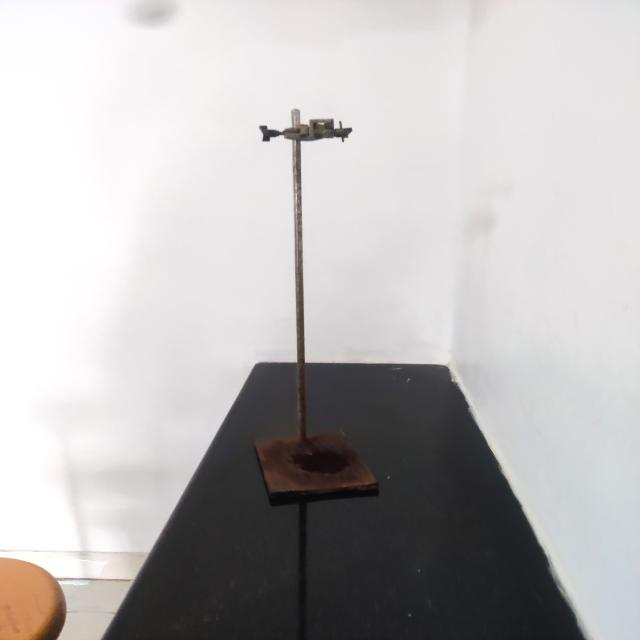Burette_Stands: (200, 80, 427, 531)
